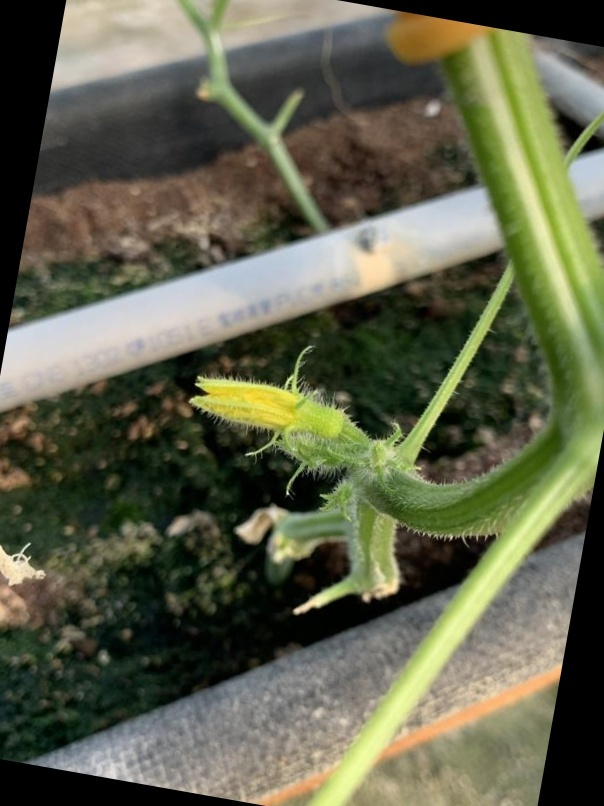bud: (189, 372, 366, 456)
